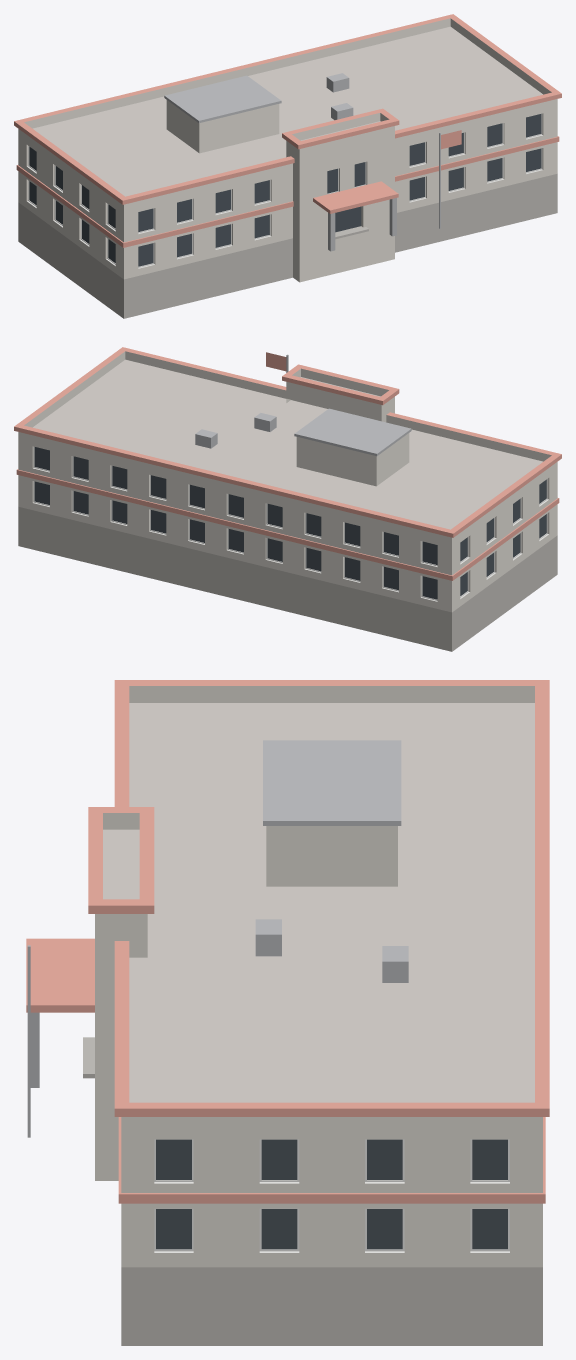
File: public_flat_2_l.glb
The picture shows the model from 3 angles, top to bottom: view 1: azimuth 30°, elevation 25°; view 2: azimuth 150°, elevation 25°; view 3: azimuth 270°, elevation 25°; orthographic projection. The views are drawn at different scales.
Visible parts, largest first — view 1: public_flat_2_l; view 2: public_flat_2_l; view 3: public_flat_2_l.
Part boxes in pixels (x1,y1,x2,y2): public_flat_2_l: [14, 14, 561, 318]; public_flat_2_l: [14, 347, 561, 651]; public_flat_2_l: [26, 680, 549, 1345].
Bounding box in the file's own units: 38.5 × 12.15 × 19.85.
